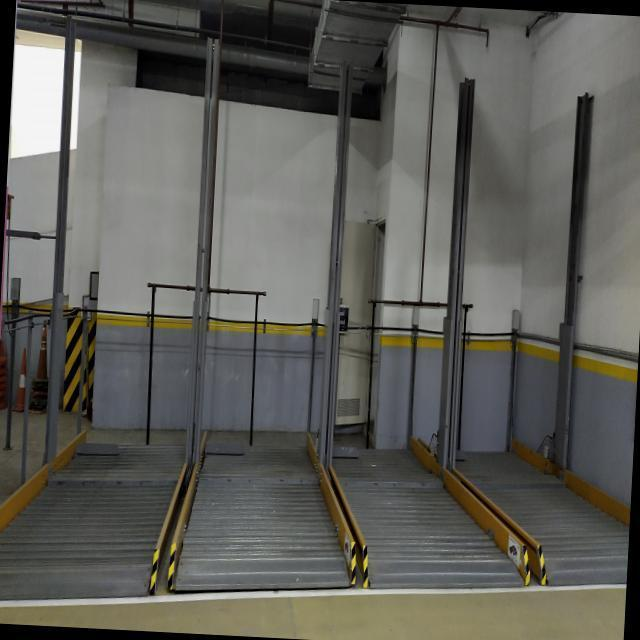space-empty: (305, 429, 553, 607), (189, 412, 388, 624), (411, 428, 635, 592), (58, 423, 223, 594)
